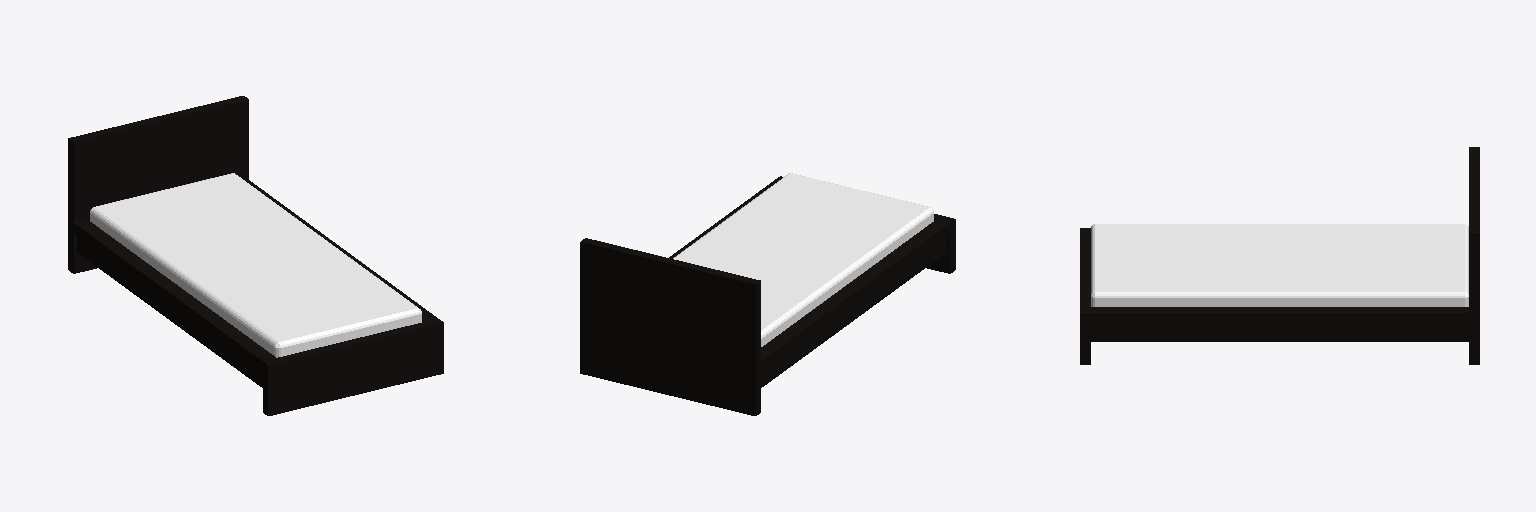
Rendered from malm_bed_1_obj0_object.obj.
3 views of the same model, side by side, from view 1: azimuth 30°, elevation 25°; view 2: azimuth 150°, elevation 25°; view 3: azimuth 270°, elevation 25° (orthographic).
Parts seen in each view (by area): view 1: Mesh2 Group5 Group3 Group2 Group1 Model, Mesh1 Group4 Group3 Group2 Group1 Model; view 2: Mesh2 Group5 Group3 Group2 Group1 Model, Mesh1 Group4 Group3 Group2 Group1 Model; view 3: Mesh1 Group4 Group3 Group2 Group1 Model, Mesh2 Group5 Group3 Group2 Group1 Model.
Boxes of the visible parts, x1,y1,x2,y2 form: Mesh2 Group5 Group3 Group2 Group1 Model: [68, 96, 443, 415]; Mesh1 Group4 Group3 Group2 Group1 Model: [90, 173, 421, 357]; Mesh2 Group5 Group3 Group2 Group1 Model: [580, 176, 955, 415]; Mesh1 Group4 Group3 Group2 Group1 Model: [673, 173, 933, 346]; Mesh1 Group4 Group3 Group2 Group1 Model: [1091, 224, 1468, 306]; Mesh2 Group5 Group3 Group2 Group1 Model: [1080, 147, 1479, 364].
Bounding box in the file's own units: 42.13 × 30.32 × 83.07.